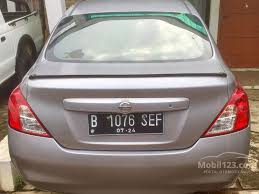plate: (88, 113, 163, 134)
